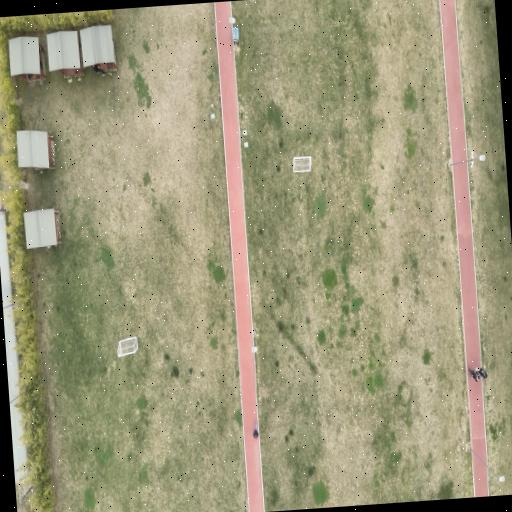person: (467, 367, 478, 380), (252, 420, 258, 440), (478, 367, 486, 378), (91, 64, 99, 72)
